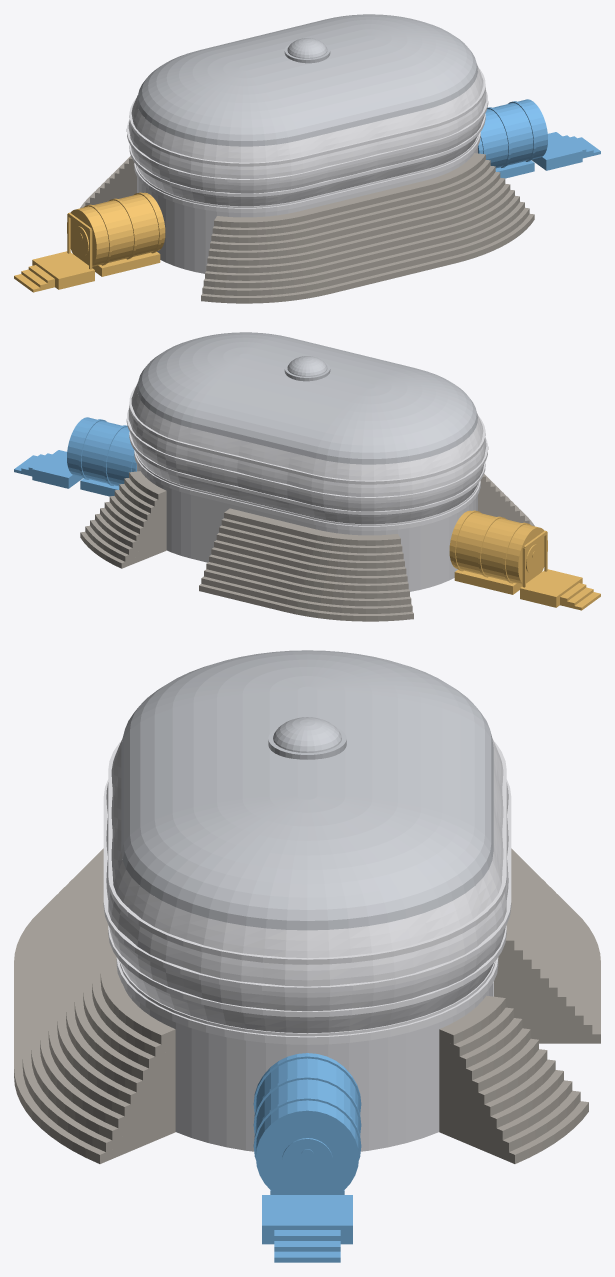
File: print_parts_1to50.glb
3 views of the same model, one above another, from view 1: azimuth 30°, elevation 25°; view 2: azimuth 150°, elevation 25°; view 3: azimuth 270°, elevation 25° (orthographic). The views are drawn at different scales.
Parts seen in each view (by area): view 1: Part3_Roof, Part4_Regolith_Shield, Part2_Upper_Deck, Part5_Airlock_Crew_EVA, Part6_Airlock_Equipment, Part1_Lower_Deck; view 2: Part3_Roof, Part4_Regolith_Shield, Part2_Upper_Deck, Part5_Airlock_Crew_EVA, Part1_Lower_Deck, Part6_Airlock_Equipment; view 3: Part3_Roof, Part4_Regolith_Shield, Part2_Upper_Deck, Part1_Lower_Deck, Part6_Airlock_Equipment.
Boxes of the visible parts, x1=… form: Part3_Roof: x1=137, y1=14, x2=477, y2=146; Part4_Regolith_Shield: x1=80, y1=153, x2=534, y2=303; Part2_Upper_Deck: x1=126, y1=64, x2=488, y2=212; Part5_Airlock_Crew_EVA: x1=14, y1=192, x2=165, y2=292; Part6_Airlock_Equipment: x1=478, y1=99, x2=600, y2=178; Part1_Lower_Deck: x1=137, y1=146, x2=477, y2=273; Part3_Roof: x1=137, y1=332, x2=477, y2=464; Part4_Regolith_Shield: x1=80, y1=471, x2=534, y2=621; Part2_Upper_Deck: x1=126, y1=382, x2=488, y2=530; Part5_Airlock_Crew_EVA: x1=449, y1=510, x2=600, y2=610; Part1_Lower_Deck: x1=137, y1=464, x2=477, y2=591; Part6_Airlock_Equipment: x1=14, y1=417, x2=136, y2=496; Part3_Roof: x1=121, y1=650, x2=493, y2=930; Part4_Regolith_Shield: x1=14, y1=848, x2=600, y2=1163; Part2_Upper_Deck: x1=103, y1=738, x2=511, y2=1044; Part1_Lower_Deck: x1=123, y1=982, x2=493, y2=1151; Part6_Airlock_Equipment: x1=253, y1=1053, x2=361, y2=1262.
Bounding box in the file's own units: 546 × 161 × 284.
